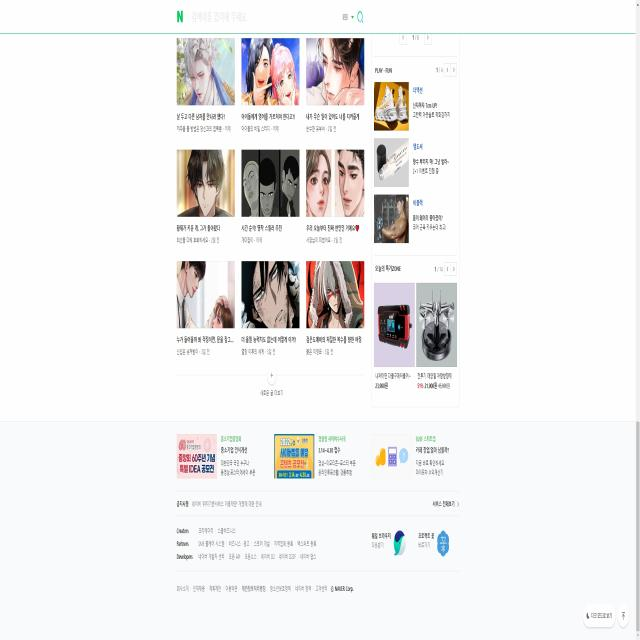search: (186, 6, 368, 26)
side-panel: (371, 32, 458, 406)
